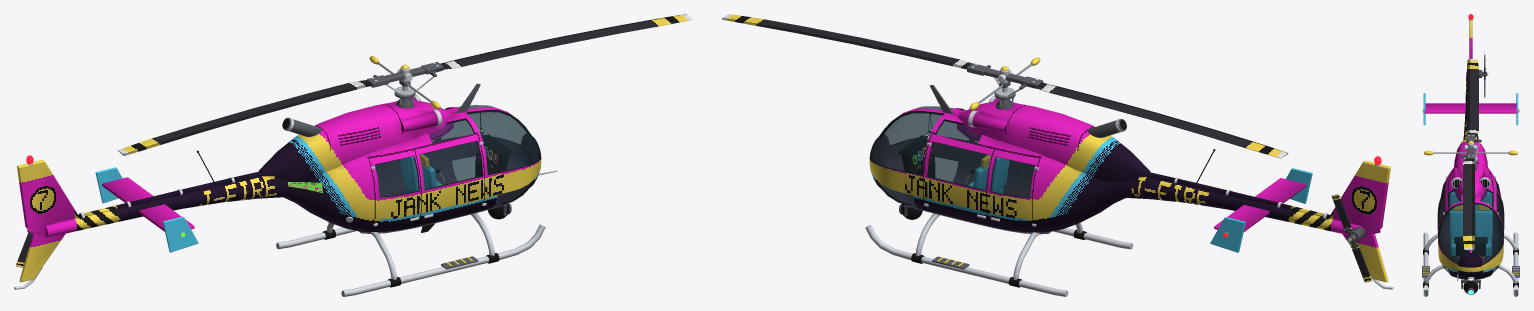
File: p_heli.glb
3 views of the same model, side by side, from view 1: azimuth 30°, elevation 25°; view 2: azimuth 150°, elevation 25°; view 3: azimuth 270°, elevation 25° (orthographic). The views are drawn at different scales.
Parts seen in each view (by area): view 1: body, glass, rotor; view 2: body, glass, rotor, tailrotor; view 3: body, glass, rotor, tailrotor.
Part boxes in pixels (bbox=[...]): body: bbox=[14, 79, 557, 296]; glass: bbox=[375, 105, 539, 206]; rotor: bbox=[117, 14, 692, 155]; body: bbox=[865, 80, 1393, 296]; glass: bbox=[871, 106, 1034, 206]; rotor: bbox=[721, 14, 1288, 158]; tailrotor: bbox=[1331, 194, 1372, 282]; body: bbox=[1422, 19, 1519, 296]; glass: bbox=[1438, 181, 1503, 275]; rotor: bbox=[1424, 59, 1517, 250]; tailrotor: bbox=[1482, 50, 1488, 97].
Size of what is drawn, in the model's own units: 11.66 by 3.11 by 2.13.
Materials: 13 (3 with a texture image).
